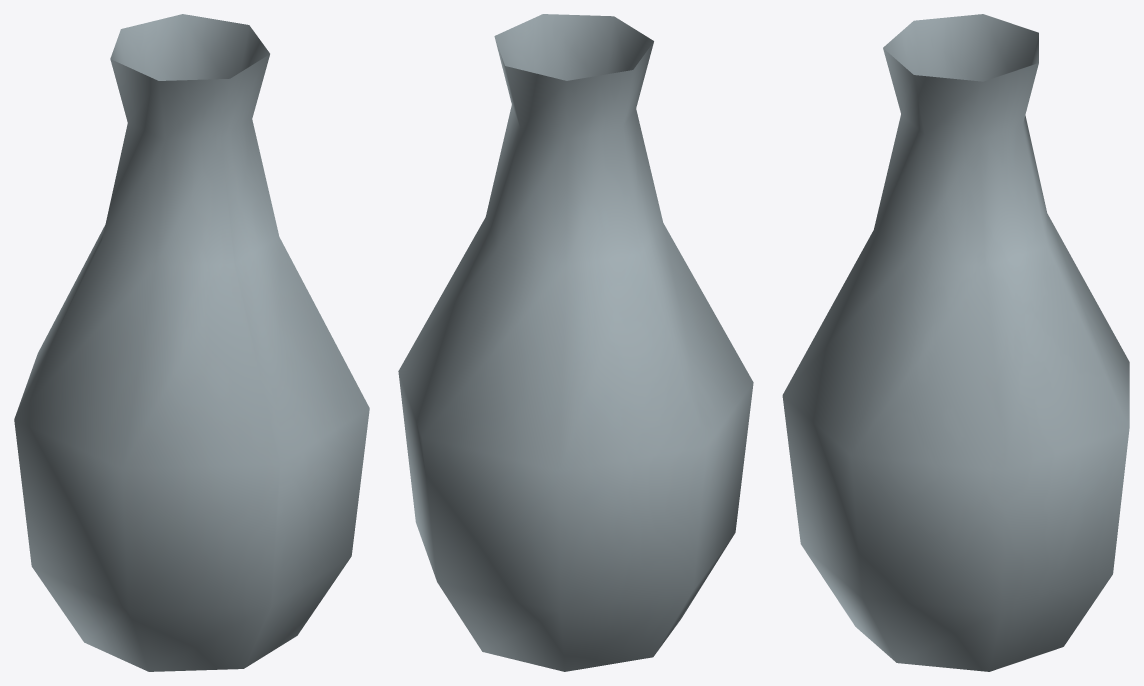
The model's file is Carafe_1_LOD1.gltf.
3 renders of one model, left to right at view 1: azimuth 30°, elevation 25°; view 2: azimuth 150°, elevation 25°; view 3: azimuth 270°, elevation 25°, orthographic.
Parts seen in each view (by area): view 1: Carafe_1_LOD1; view 2: Carafe_1_LOD1; view 3: Carafe_1_LOD1.
Boxes of the visible parts, left/top/right/bottom form: Carafe_1_LOD1: left=14, top=14, right=369, bottom=671; Carafe_1_LOD1: left=398, top=14, right=753, bottom=671; Carafe_1_LOD1: left=782, top=14, right=1129, bottom=671.
Size of the model in its own units: 0.195 by 0.35 by 0.1901.
1 material, 1 textured.
